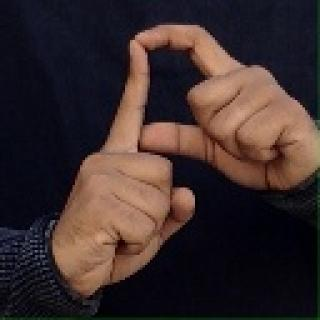D: (46, 19, 319, 292)
